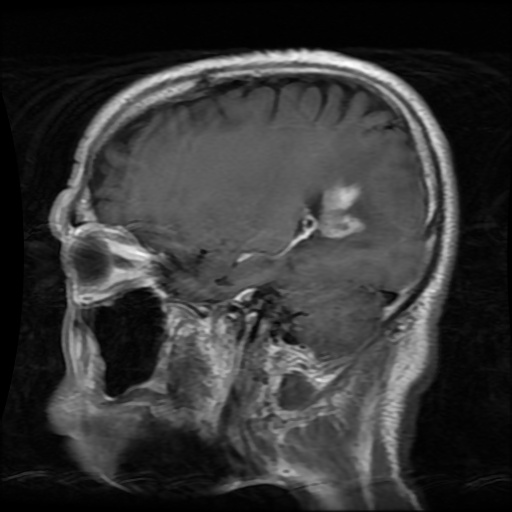glioma: (319, 182, 365, 238)
